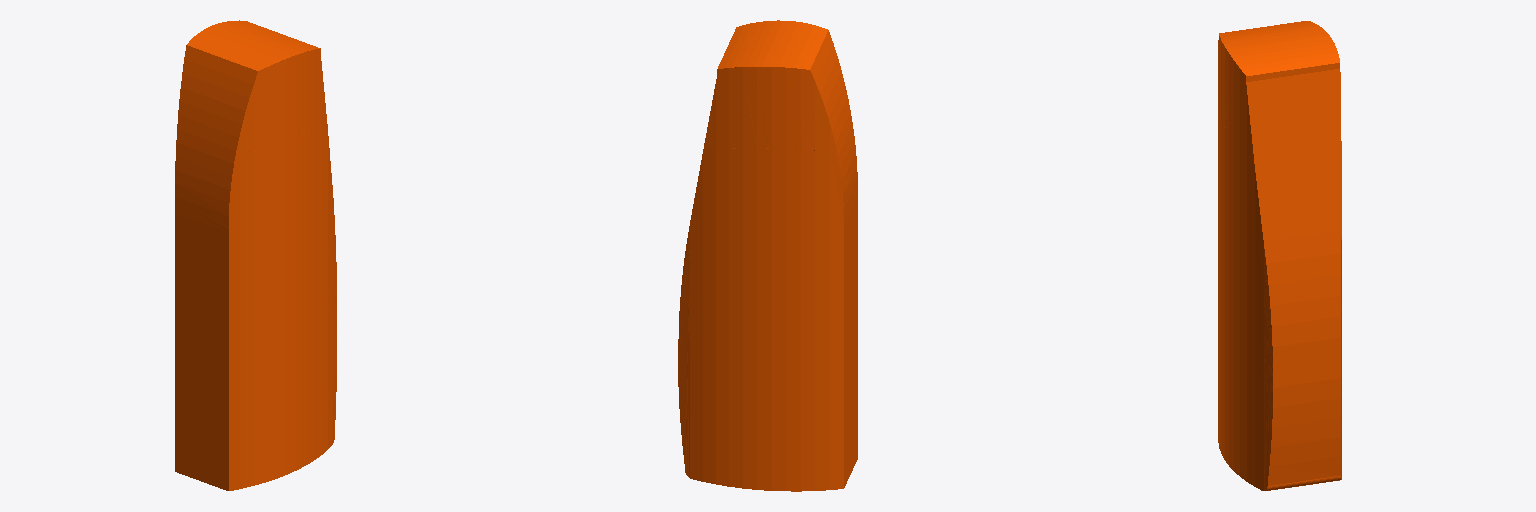
robot.urdf — Shampoo_2ba1891e2b354b219617cbc6647fc553:
<?xml version="1.0" ?>
<robot name="Shampoo_2ba1891e2b354b219617cbc6647fc553">
   <material name="obj_color">
      <color rgba="1.0 0.423529411765 0.0392156862745 1.0"/>
   </material>
   <link name="top">
      <inertial>
         <origin rpy="0.001338277123502926 0.008829870872717105 0.009307366979303722" xyz="-0.002577395063519611 -2.127503083230593e-05 -0.007650543697883033"/>
         <mass value="1.427331066704556"/>
         <inertia ixx="0.008876274878774567" ixy="-0.0001484252900690097" ixz="0.00017735201422896" iyy="0.009256264055542265" iyz="6.104560374071935e-05" izz="0.001342976041206916"/>
      </inertial>
      <visual>
         <origin rpy="0 0 0" xyz="0 0 0"/>
         <geometry>
            <mesh filename="top_watertight_tiny.stl" scale="1 1 1"/>
         </geometry>
         <material name="obj_color"/>
      </visual>
      <collision>
         <origin rpy="0 0 0" xyz="0 0 0"/>
         <geometry>
            <mesh filename="top_watertight_tiny.obj" scale="1 1 1"/>
         </geometry>
      </collision>
   </link>
   <link name="bottom">
      <inertial>
         <origin rpy="1.633333333199431e-08 1.633333333199431e-08 1.633333333362855e-08" xyz="0.3464080000000008 0.3464080000000008 0.3464080000000008"/>
         <mass value="0.0009800000000000017"/>
         <inertia ixx="1.633333333253906e-08" ixy="5.447480642029219e-19" ixz="5.447480642029219e-19" iyy="1.633333333253906e-08" iyz="5.447480642029219e-19" izz="1.633333333253906e-08"/>
      </inertial>
      <visual>
         <origin rpy="0 0 0" xyz="0 0 0"/>
         <geometry>
            <mesh filename="bottom_watertight_tiny.stl" scale="1 1 1"/>
         </geometry>
         <material name="obj_color"/>
      </visual>
   </link>
   <link name="world"/>
   <joint name="world_to_base" type="fixed">
      <origin xyz="0 0 0"/>
      <axis xyz="0 0 0"/>
      <parent link="world"/>
      <child link="bottom"/>
   </joint>
   <joint name="rotation" type="revolute">
      <origin xyz="0 0 0"/>
      <axis xyz="0 0 -1"/>
      <parent link="bottom"/>
      <child link="top"/>
      <dynamics damping="1.0" friction="1.0"/>
      <limit effort="0.1" velocity="0.1" lower="0" upper="0.001"/>
   </joint>
</robot>

--- Facts derived from the render (not from the file) ---
3 views of the same robot in one strip: view 1: azimuth 30°, elevation 25°; view 2: azimuth 150°, elevation 25°; view 3: azimuth 270°, elevation 25° (orthographic).
Model Shampoo_2ba1891e2b354b219617cbc6647fc553 with 3 links and 2 joints (1 revolute, 1 fixed), rooted at world, posed all joints at 0.
Links seen in each view (by area): view 1: top; view 2: top; view 3: top.
Boxes of the visible links, x1,y1,x2,y2 form: top: [175, 20, 336, 490]; top: [678, 20, 857, 491]; top: [1218, 21, 1341, 490].
Size in the robot's own frame: 0.1084 by 0.0746 by 0.2762 metres.
Meshes: 2 distinct files referenced, 1 mesh visuals loaded (1 binary STL); not drawn: 1 (reference not matched to a file when rendering).
